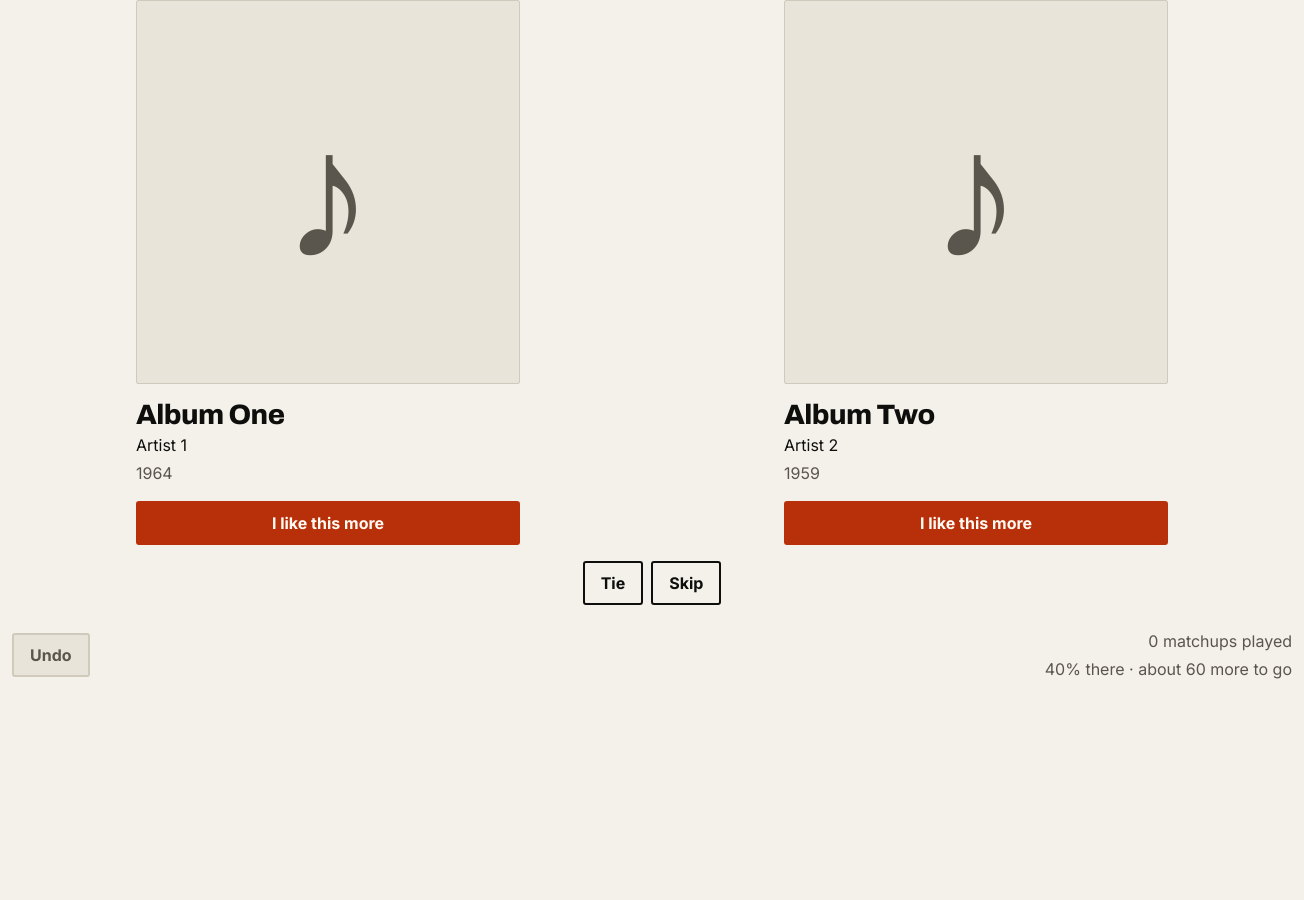
Test: matchup screen › hides the progress line when there is no progress, and updates it from each answer
This screenshot has width=1304, height=900.
Expected: the text "40% there · about 60 more to go" is shown, [1045, 657, 1292, 681]
Click the button "Tie" at (613, 583), box [583, 561, 643, 605]
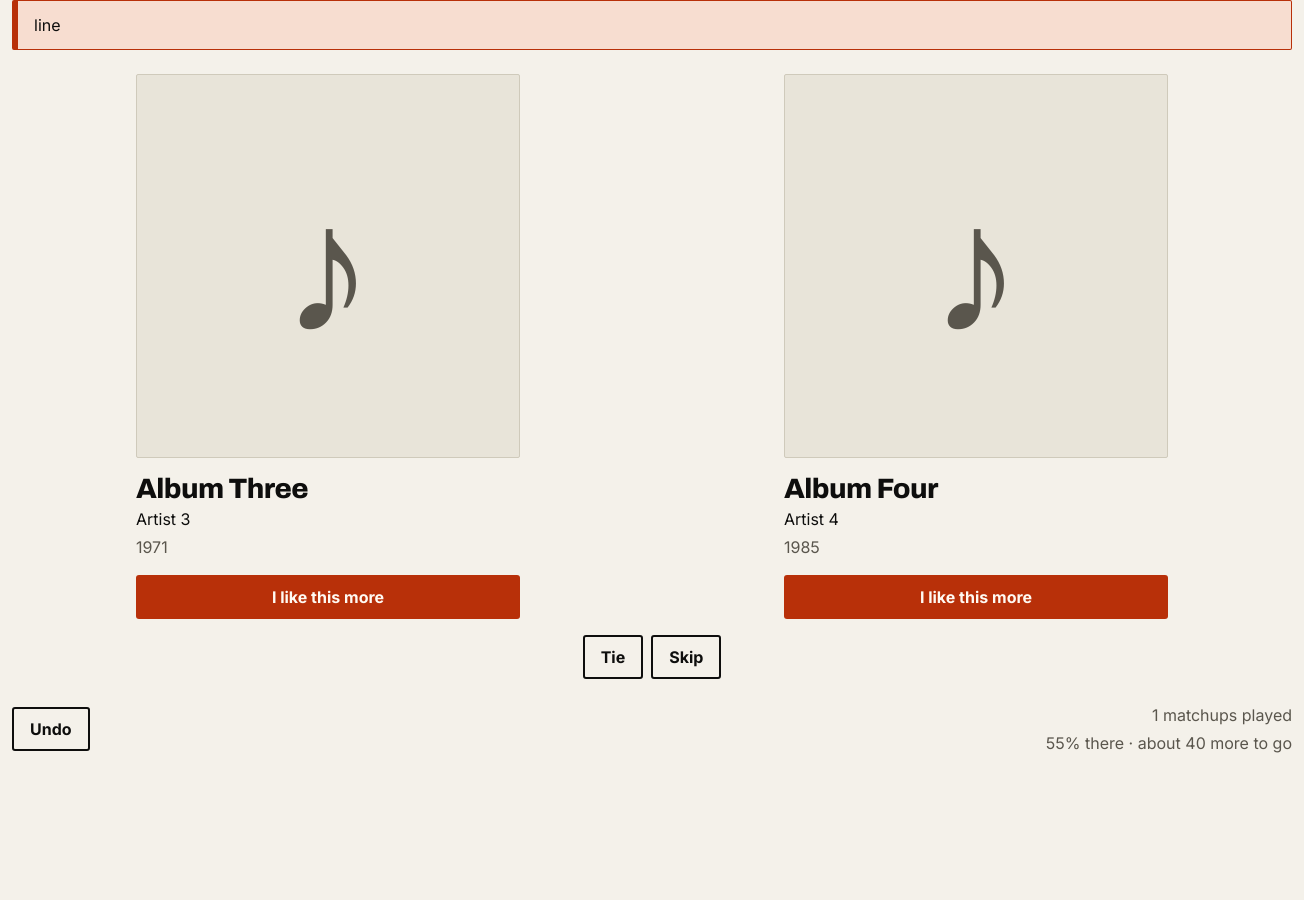
Expected: the text "55% there · about 40 more to go" is shown, [1046, 731, 1292, 755]
